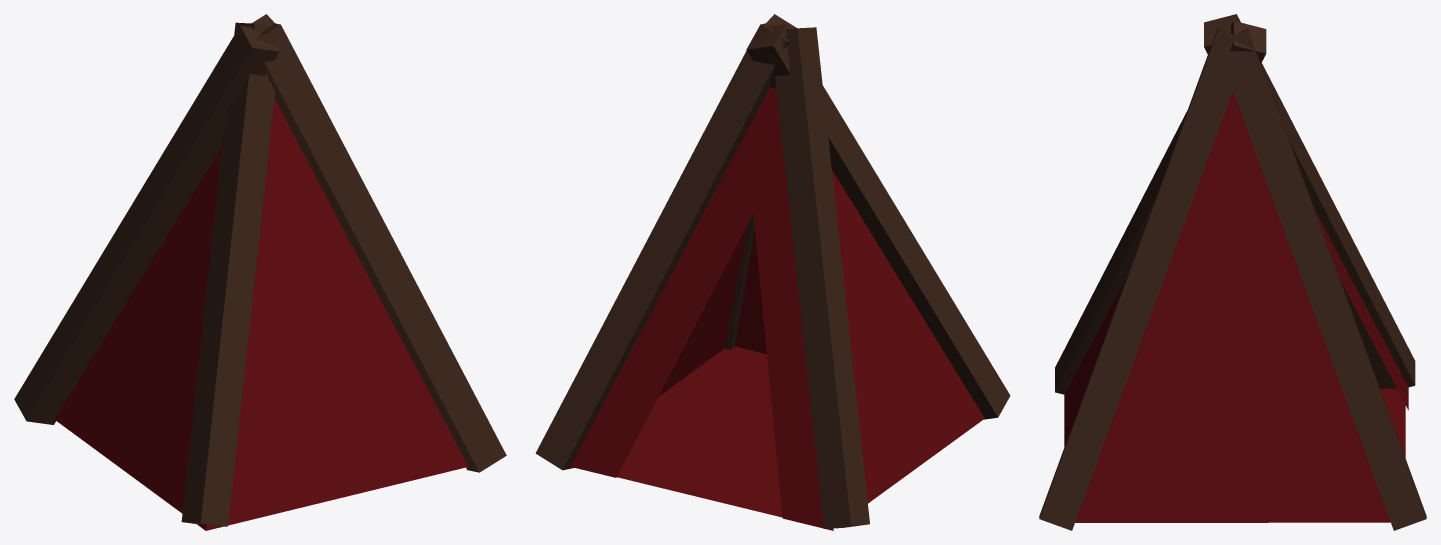
The model's file is tent.fbx.
3 views of the same model, side by side, from view 1: azimuth 30°, elevation 25°; view 2: azimuth 150°, elevation 25°; view 3: azimuth 270°, elevation 25° (orthographic). The views are drawn at different scales.
Visible parts, largest first — view 1: Tent, Wood; view 2: Tent, Wood, Tent.001; view 3: Tent, Wood.
Part boxes in pixels (bbox=[...]): Tent: bbox=[55, 98, 468, 530]; Wood: bbox=[14, 14, 506, 526]; Tent: bbox=[570, 87, 984, 530]; Wood: bbox=[535, 14, 1010, 528]; Tent.001: bbox=[577, 88, 822, 526]; Tent: bbox=[1064, 91, 1408, 522]; Wood: bbox=[1039, 14, 1426, 530].
Size of the model in its own units: 439 by 556 by 445.
